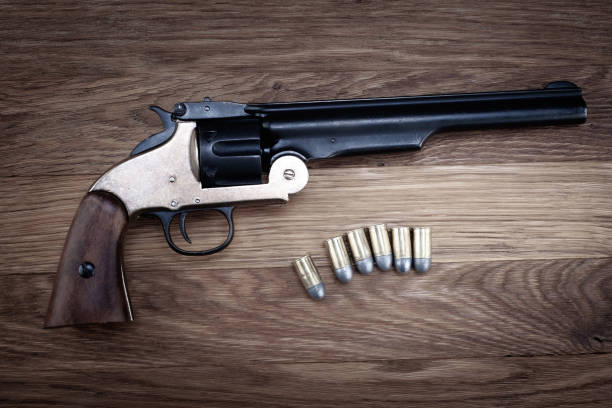gun: (45, 75, 589, 333)
